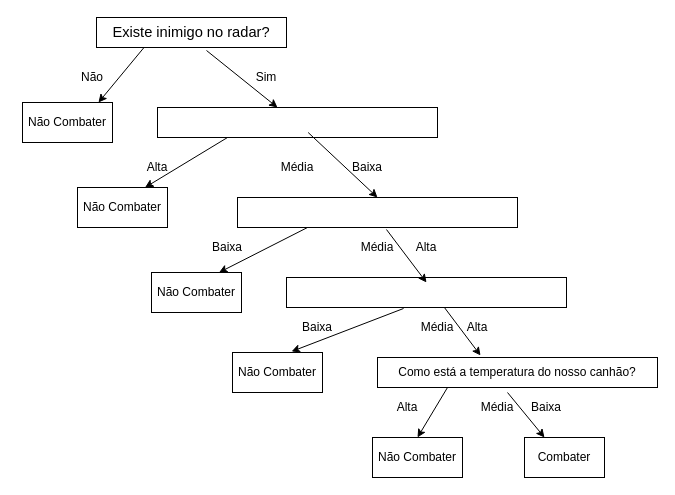
The diagram is 675 pixels wide and 495 high, and some of its shapes have lost their labels. The shapes that lost their labels are listed below. From the top down, each one's box as (x1, y1, x2, y2) in pixels, then its label:
(156, 106, 438, 138): Como está a energia do robô inimigo?
(236, 196, 518, 228): Como está a energia do nosso robô?
(286, 276, 566, 308): Como está a temperatura do canhão inimigo?
